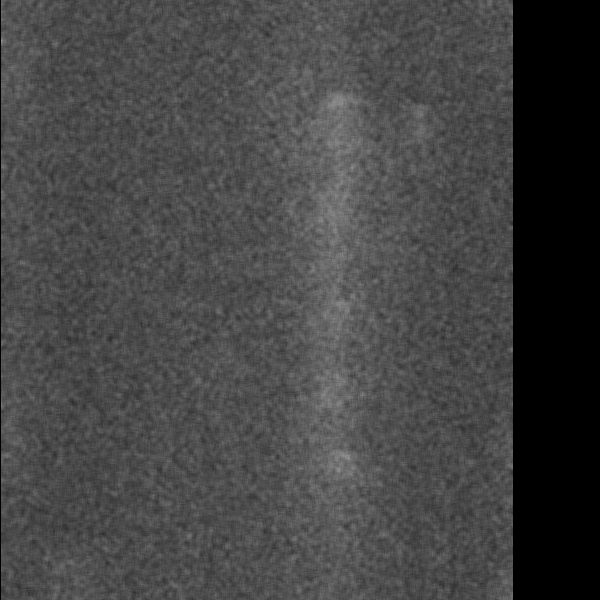spark: (405, 98, 431, 179), (302, 91, 368, 120)
